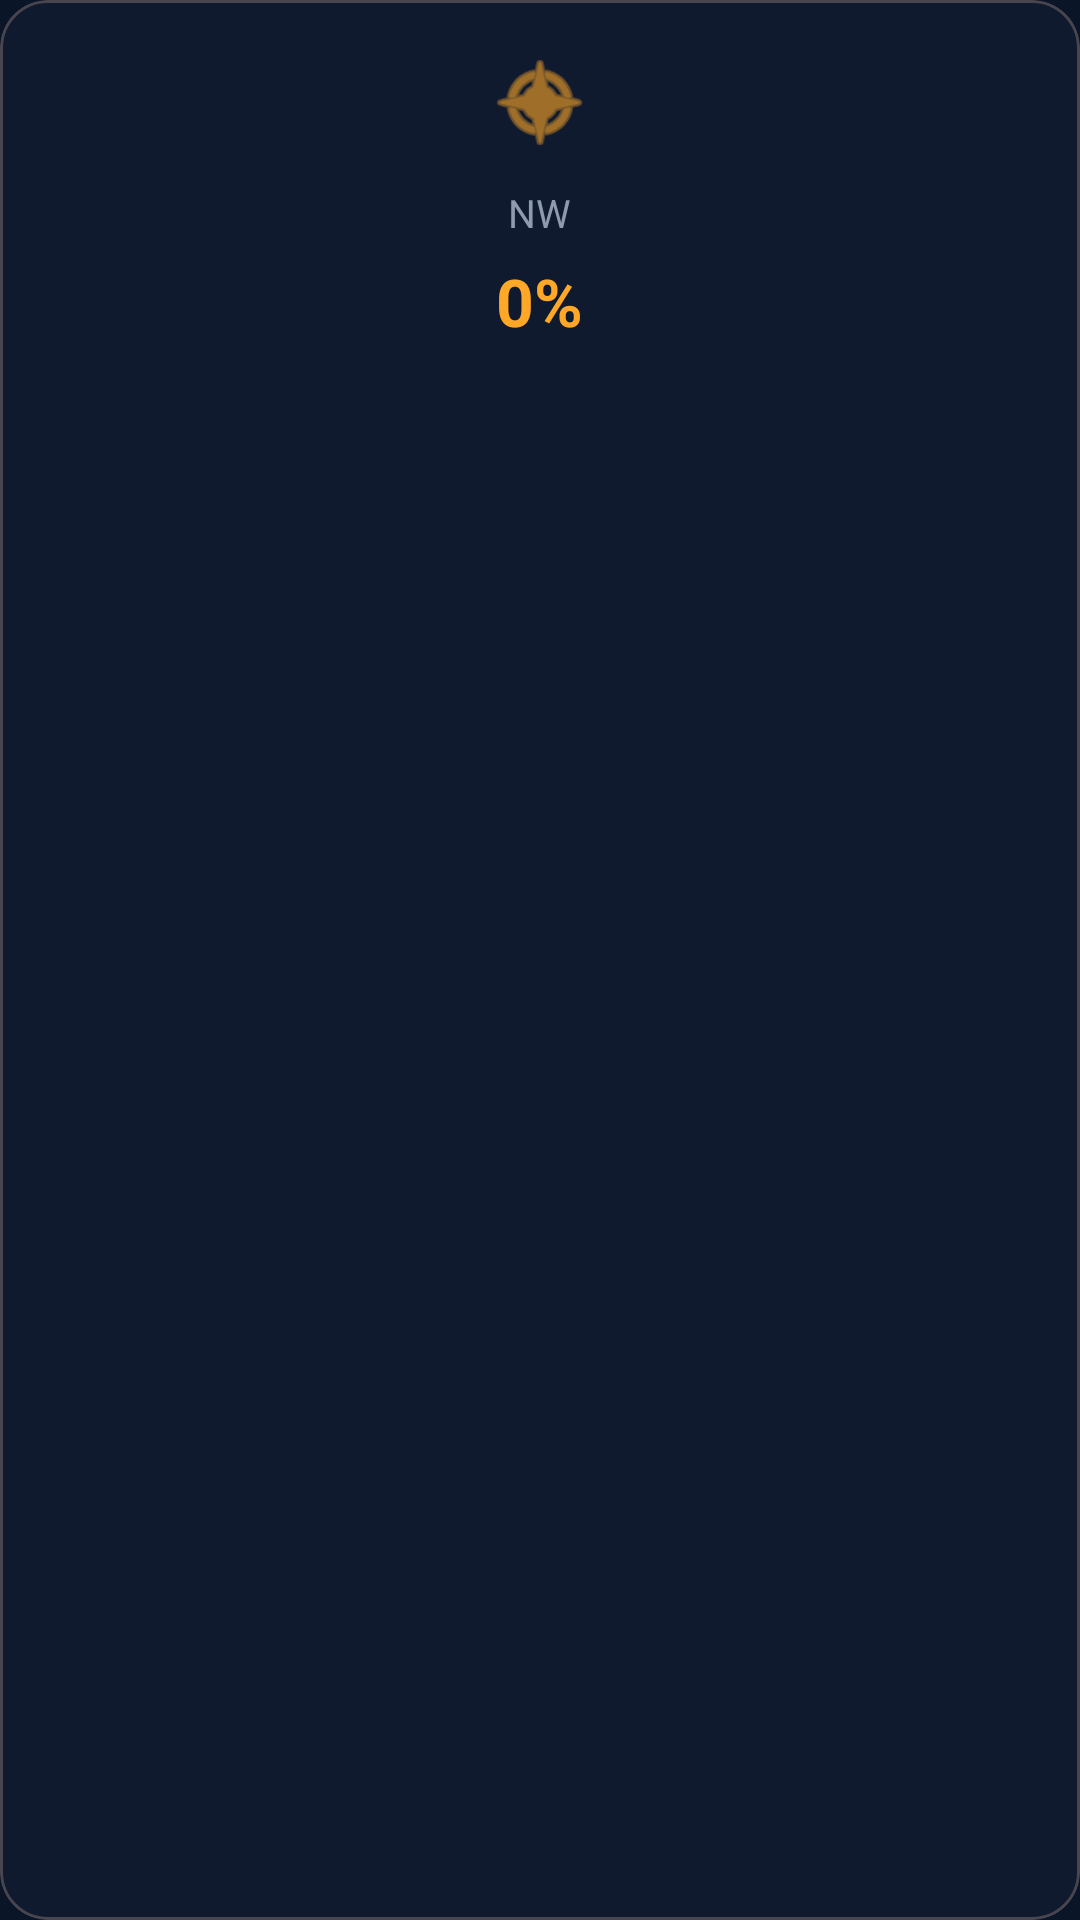

Icons on this 1080*1920 Android screen, each with the point to tap as [x,y]:
compass: [539,102]
